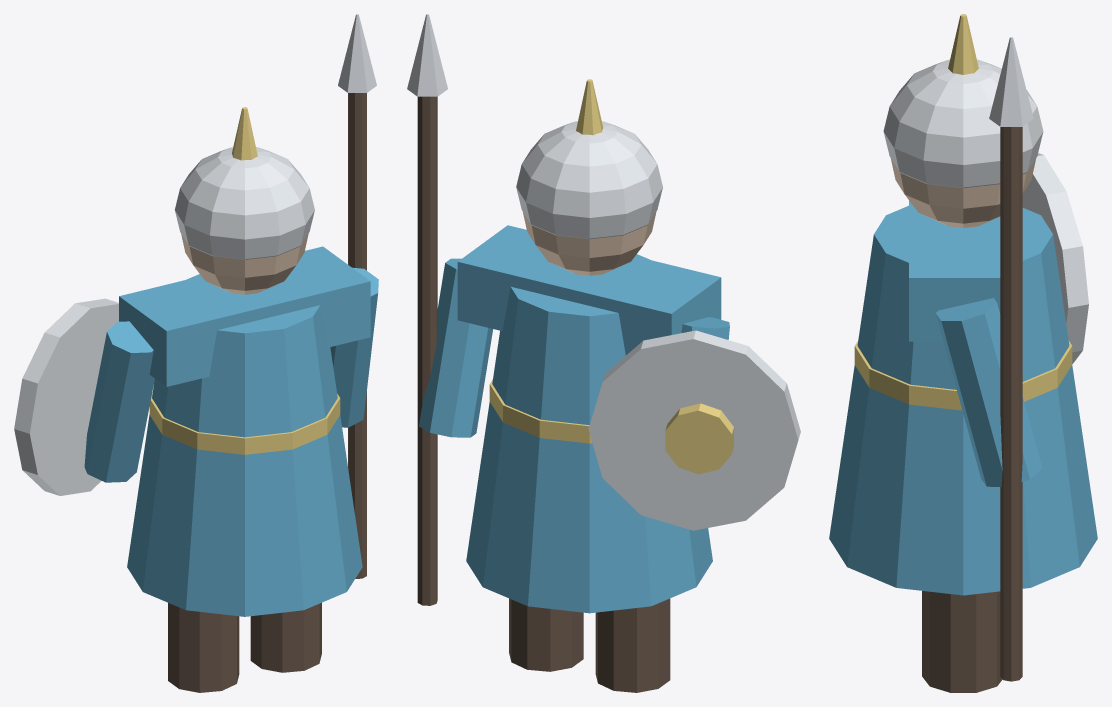
The model's file is guard.glb.
The picture shows the model from 3 angles, left to right: view 1: azimuth 30°, elevation 25°; view 2: azimuth 150°, elevation 25°; view 3: azimuth 270°, elevation 25°; orthographic projection. The views are drawn at different scales.
Visible parts, largest first — view 1: Tunic, Shoulders, Shield, Helmet, ArmL, BootL, SpearShaft, BootR, Sash, Head, ArmR, SpearTip (+1 smaller); view 2: Tunic, Shield, Shoulders, Helmet, SpearShaft, ArmR, BootL, BootR, ShieldBoss, Head, Sash, SpearTip (+2 smaller); view 3: Tunic, Helmet, SpearShaft, Shoulders, ArmR, BootR, Shield, Head, Sash, SpearTip, HelmSpire.
Part boxes in pixels (x1,y1,x2,y2): Tunic: (127, 274, 362, 616); Shoulders: (119, 246, 370, 386); Shield: (14, 298, 118, 495); Helmet: (175, 147, 314, 259); ArmL: (84, 321, 154, 482); BootL: (168, 603, 239, 692); SpearShaft: (348, 93, 366, 578); BootR: (250, 602, 321, 672); Sash: (149, 393, 340, 454); Head: (181, 234, 308, 294); ArmR: (330, 267, 378, 427); SpearTip: (338, 14, 376, 92); Tunic: (466, 254, 712, 613); Shield: (588, 330, 800, 530); Shoulders: (457, 225, 721, 355); Helmet: (516, 121, 662, 239); SpearShaft: (417, 96, 437, 605); ArmR: (419, 258, 492, 437); BootL: (595, 598, 670, 692); BootR: (509, 598, 583, 671); ShieldBoss: (665, 403, 733, 474); Head: (523, 212, 656, 275); Sash: (489, 379, 592, 443); SpearTip: (407, 14, 447, 96); Tunic: (829, 205, 1097, 595); Helmet: (883, 59, 1043, 188); SpearShaft: (1000, 127, 1022, 681); Shoulders: (909, 200, 1000, 341); ArmR: (936, 298, 1042, 486); BootR: (922, 591, 1002, 692); Shield: (1022, 153, 1088, 363); Head: (891, 159, 1035, 227); Sash: (854, 340, 1072, 410); SpearTip: (989, 37, 1033, 126); HelmSpire: (948, 14, 978, 74).
Bounding box in the file's own units: 1.5 × 2.38 × 0.84.
